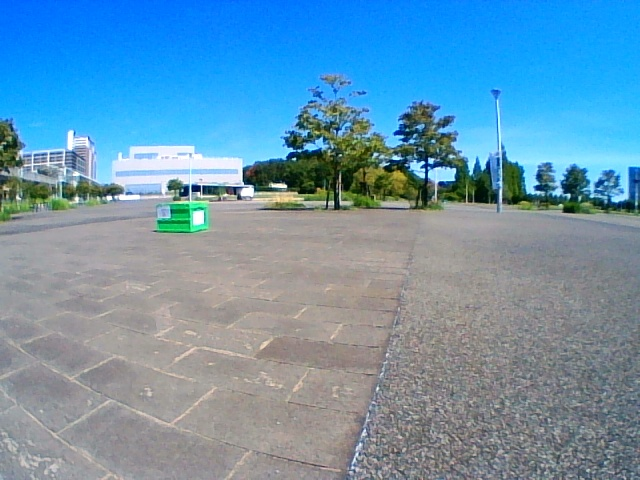green_box: (157, 202, 207, 233)
tag: (158, 207, 168, 218)
